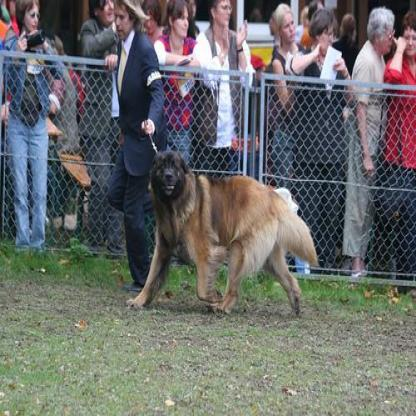Leonberg: (126, 147, 318, 315)
